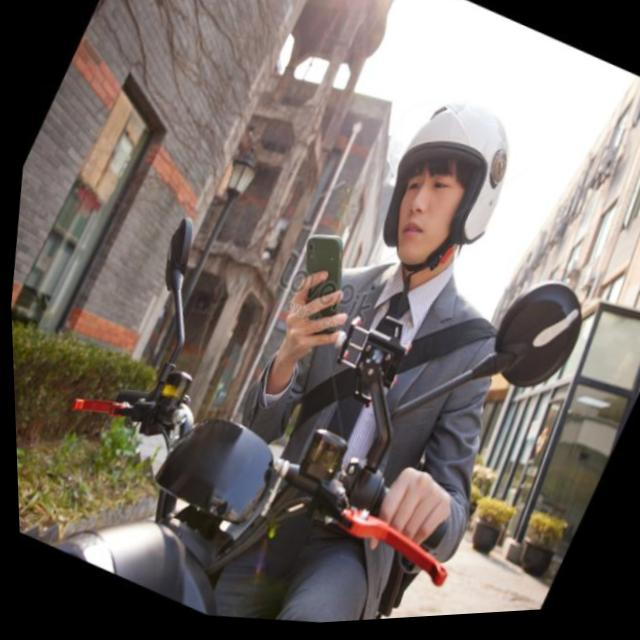USING_MOBILE: (206, 41, 563, 513)
